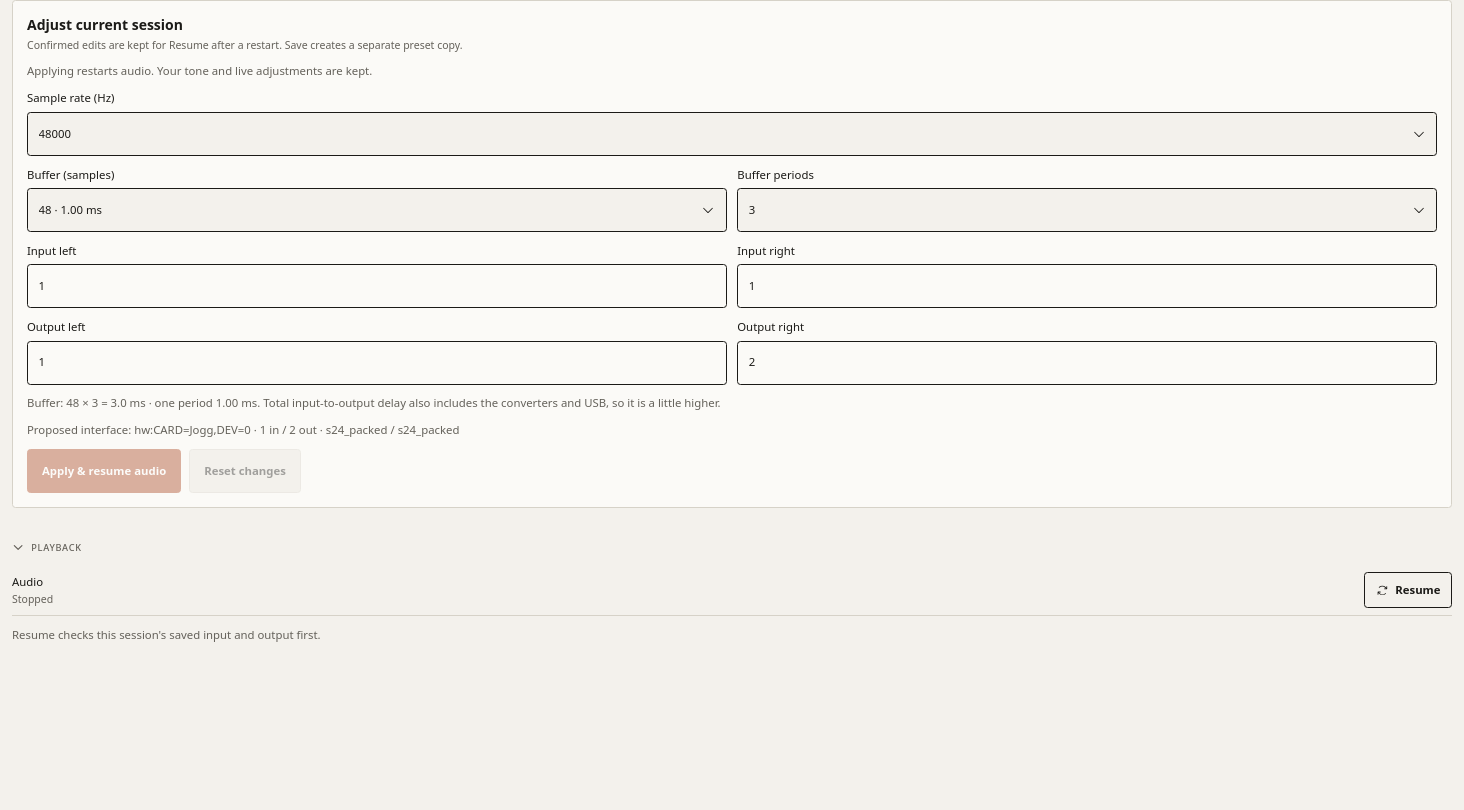
Resume starts nothing when the saved interface is gone
Click the button with aria-label "Resume audio": (1408, 590) [1364, 572, 1452, 608]
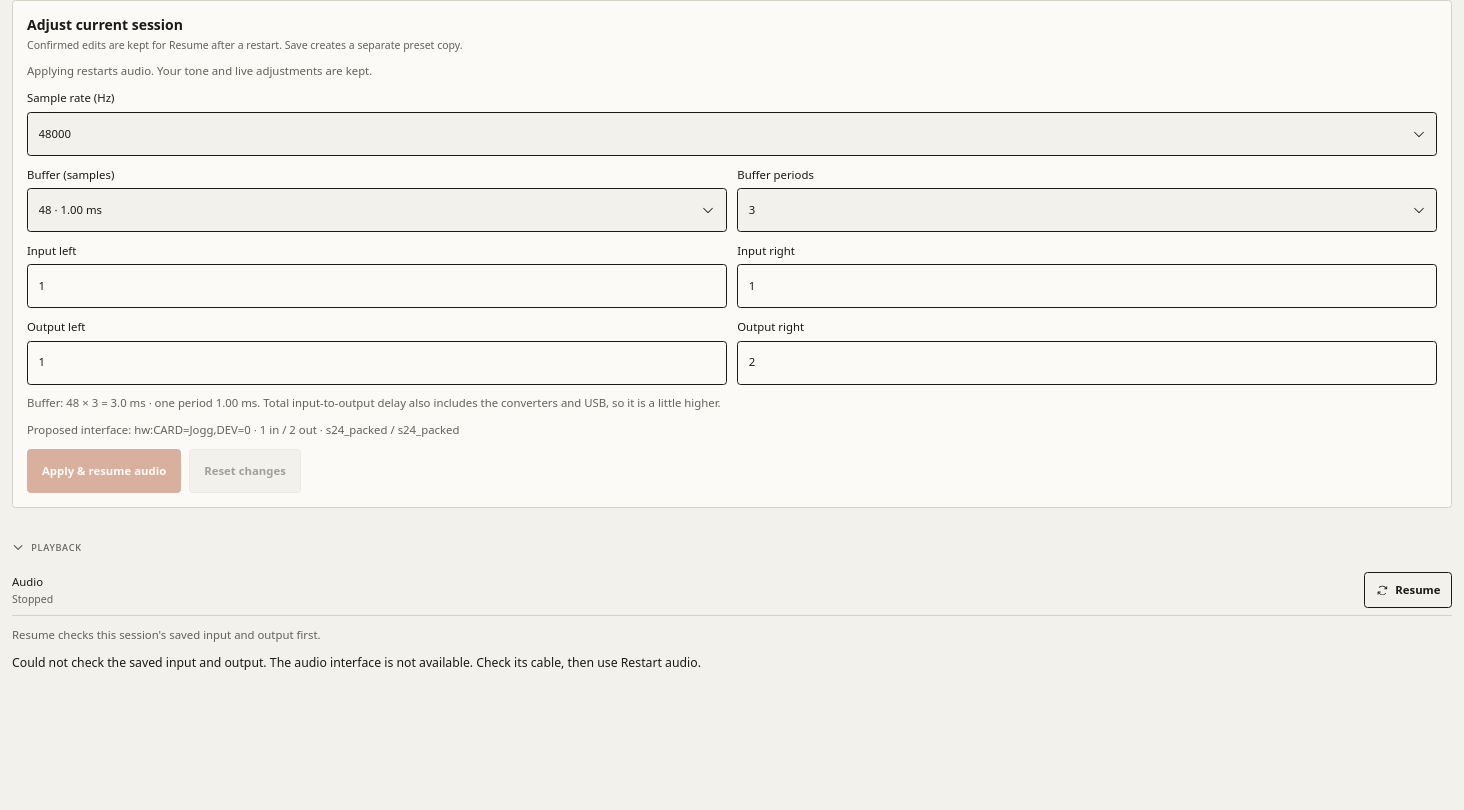
Expected: the 2nd message is shown, [12, 654, 701, 671]
